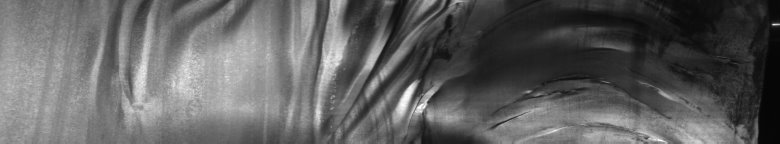ke: (312, 4, 736, 136)
